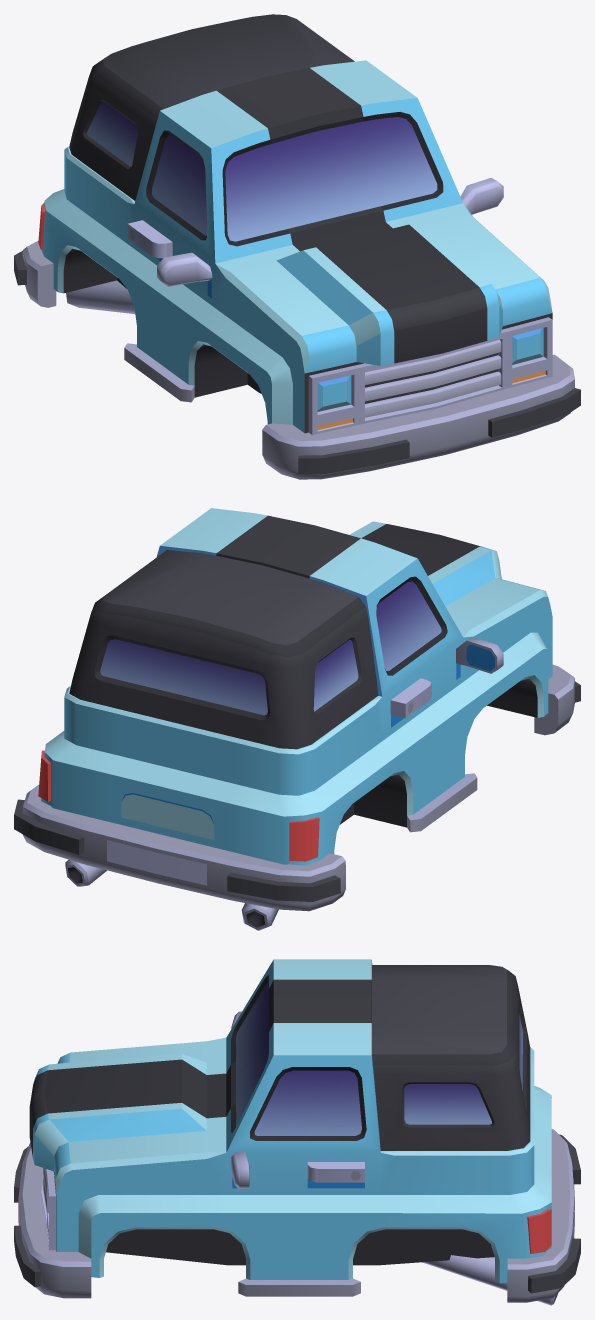
File: PickupWithTrunk_SkyBlue.fbx
3 renders of one model, top to bottom at view 1: azimuth 30°, elevation 25°; view 2: azimuth 150°, elevation 25°; view 3: azimuth 270°, elevation 25°, orthographic. The views are drawn at different scales.
Parts seen in each view (by area): view 1: Car_5; view 2: Car_5; view 3: Car_5.
Part boxes in pixels (x1,y1,x2,y2): Car_5: (14, 14, 580, 479); Car_5: (14, 508, 580, 930); Car_5: (14, 959, 580, 1305).
Size of the model in its own units: 3.01 by 2.32 by 4.52.
